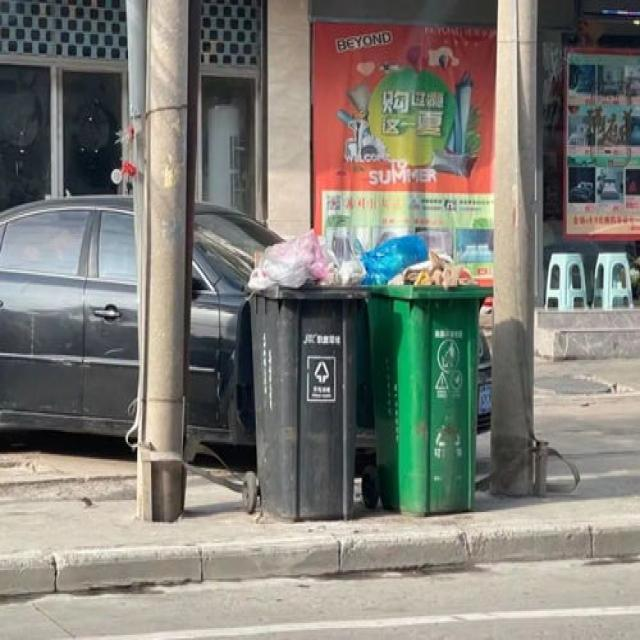overflow: (365, 234, 490, 514), (246, 229, 365, 517)
